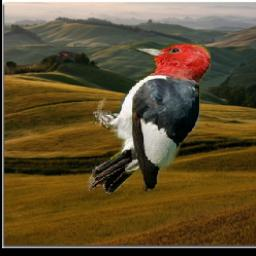Woodpecker: (87, 42, 211, 195)
